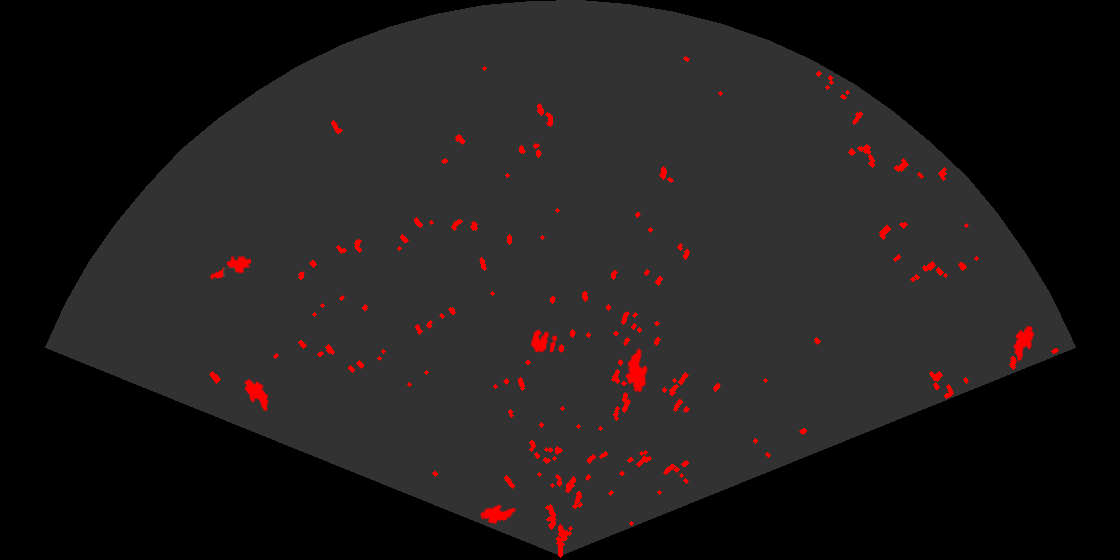AUV: (624, 346, 649, 394), (243, 377, 270, 413), (1012, 324, 1036, 363), (478, 503, 518, 526)
ball: (529, 328, 559, 354)
frogman: (209, 254, 251, 281)
